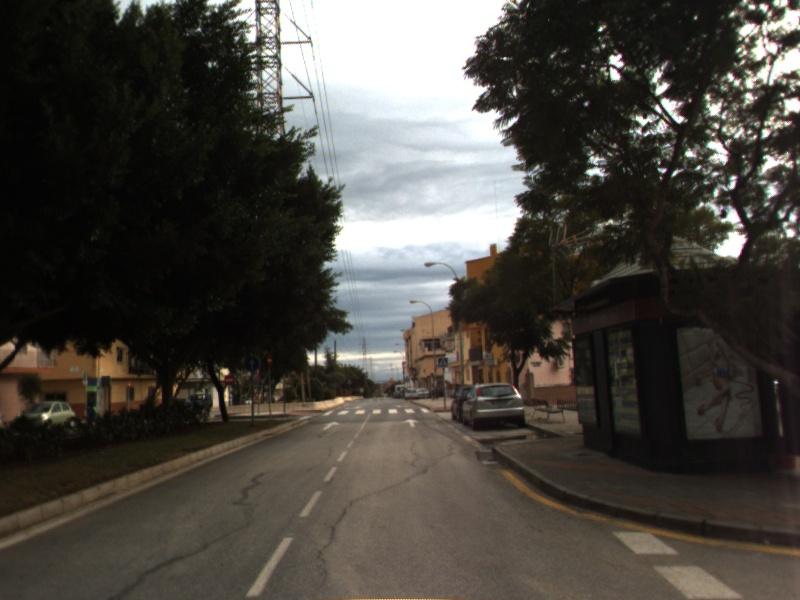STRAIGHT: (320, 419, 343, 432), (401, 416, 422, 429)
